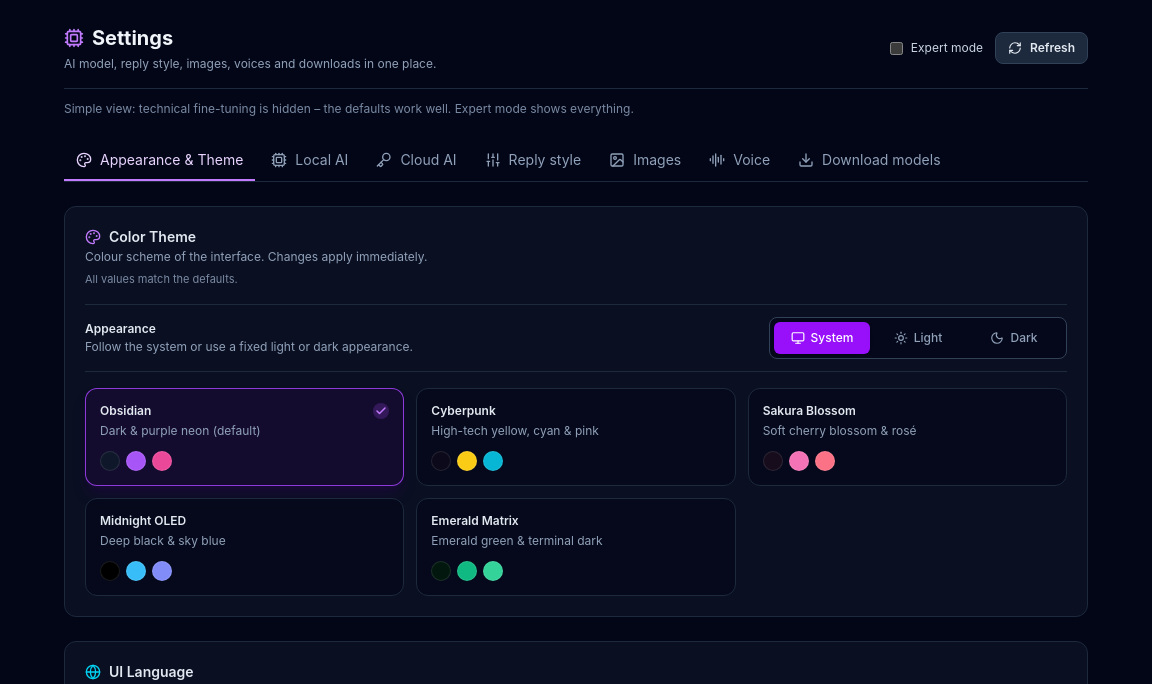
expert mode › is saved with the settings
Expected: the tab "Prompt" is not shown
Step 1. Click the checkbox labelled "Expert mode" → (896, 48), box 890,42 -> 903,54
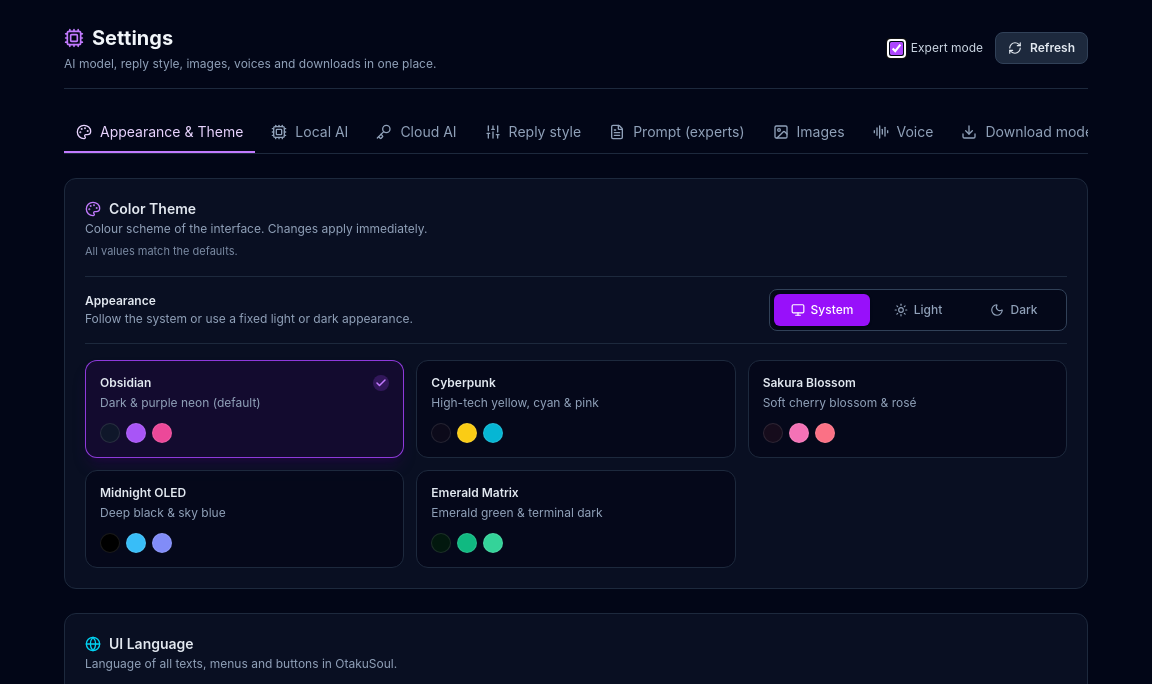
Now the tab "Prompt (experts)" is shown, box 597,113 -> 756,153
